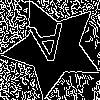A: (27, 22, 69, 73)
